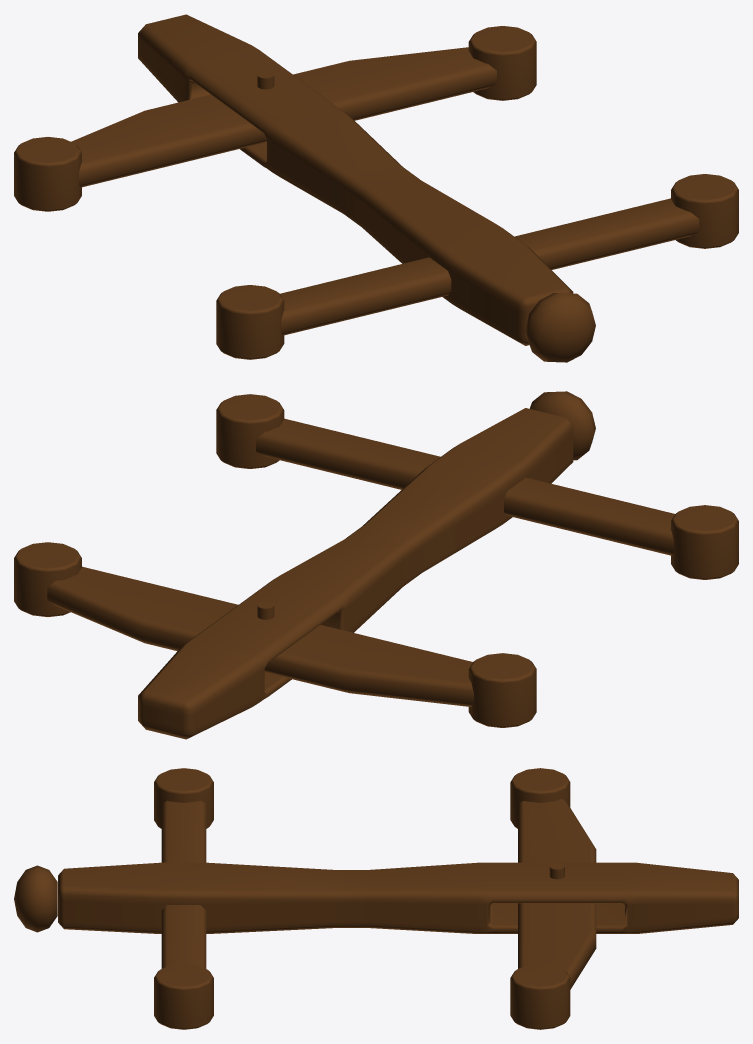
The model's file is SM_MarionetteController.fbx.
3 views of the same model, one above another, from view 1: azimuth 30°, elevation 25°; view 2: azimuth 150°, elevation 25°; view 3: azimuth 270°, elevation 25° (orthographic). The views are drawn at different scales.
Parts seen in each view (by area): view 1: Box004, Box005, Box006, Cylinder004, Cylinder005, Sphere001, Cylinder002, Cylinder003; view 2: Box004, Box005, Box006, Cylinder004, Cylinder005, Cylinder003, Cylinder002, Sphere001; view 3: Box004, Box005, Box006, Cylinder002, Cylinder003, Sphere001, Cylinder004, Cylinder005.
Boxes of the visible parts, x1,y1,x2,y2 form: Box004: (138,14,573,345); Box005: (71,47,496,187); Box006: (280,198,699,335); Cylinder004: (216,285,284,359); Cylinder005: (14,137,81,211); Sphere001: (525,293,595,362); Cylinder002: (468,26,536,100); Cylinder003: (671,174,738,248); Box004: (138,408,573,739); Box005: (47,566,473,706); Box006: (256,418,674,555); Cylinder004: (671,505,738,579); Cylinder005: (468,653,536,727); Cylinder003: (216,394,284,468); Cylinder002: (14,542,81,616); Sphere001: (529,391,595,460); Box004: (58,862,738,933); Box005: (518,798,596,989); Box006: (161,800,206,968); Cylinder002: (510,963,570,1029); Cylinder003: (154,963,213,1029); Sphere001: (14,865,57,932); Cylinder004: (154,768,213,828); Cylinder005: (510,768,570,828).
Size of the model in its own units: 87.24 by 12 by 121.
